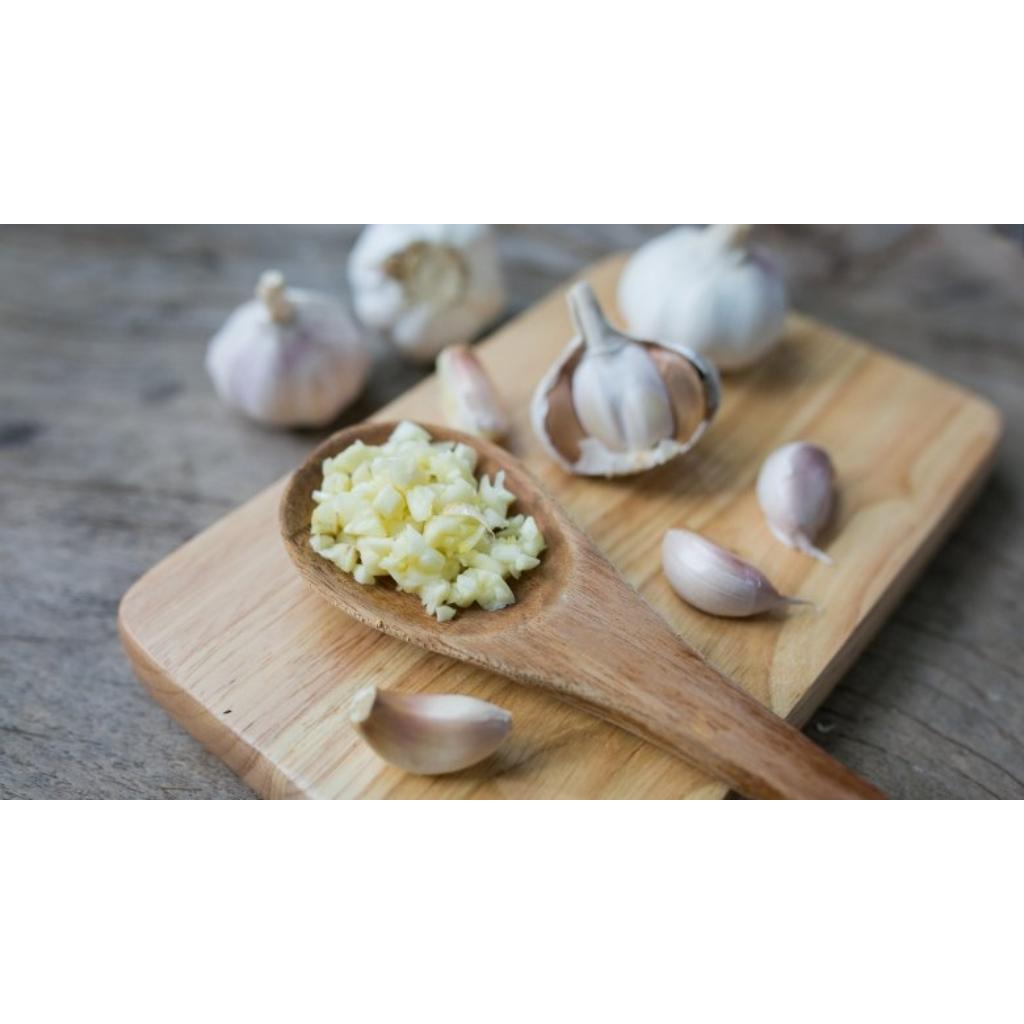garlic: (529, 280, 717, 475), (205, 269, 368, 425), (616, 224, 784, 367), (347, 224, 501, 358), (348, 685, 509, 771), (660, 527, 807, 614), (755, 441, 831, 561), (435, 343, 505, 445)
